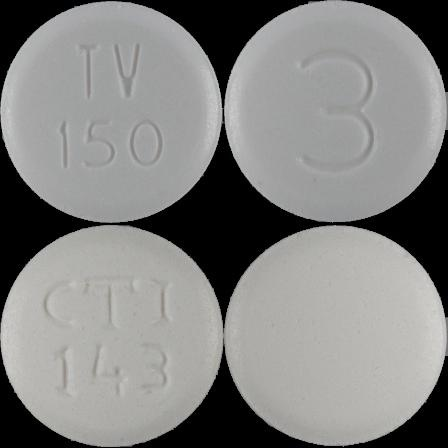42254-022: (0, 0, 224, 224)
